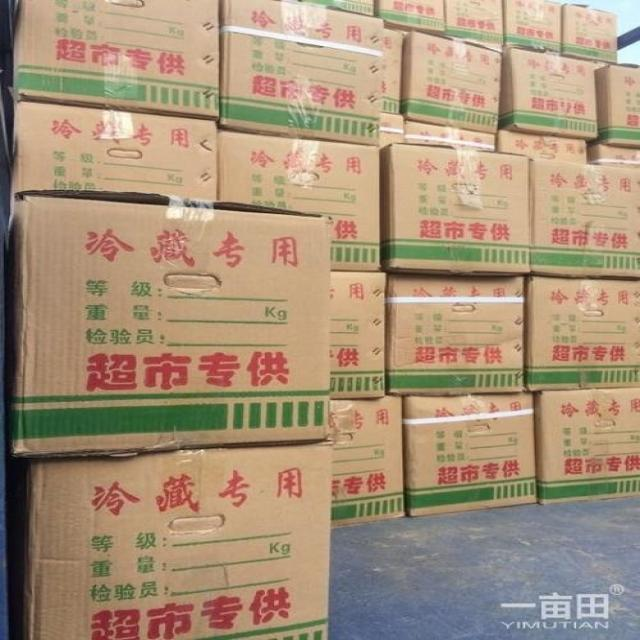box: (8, 191, 330, 460), (20, 441, 330, 640), (8, 99, 220, 222), (13, 1, 221, 120), (221, 0, 384, 147), (218, 128, 380, 272), (379, 142, 532, 276), (388, 272, 527, 395), (404, 391, 539, 517), (530, 156, 640, 279), (525, 275, 640, 391), (532, 387, 640, 507), (326, 395, 407, 528), (402, 31, 502, 135), (499, 46, 599, 142), (328, 270, 388, 400), (595, 59, 640, 150), (561, 1, 618, 65), (504, 0, 563, 55), (497, 128, 589, 163), (444, 0, 507, 47), (404, 120, 497, 151), (379, 25, 407, 114), (374, 1, 445, 36), (586, 140, 640, 166), (305, 0, 375, 16), (378, 112, 404, 146)
